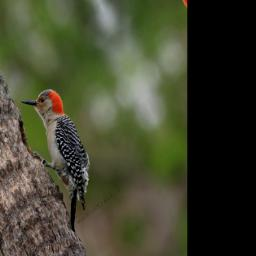Woodpecker: (10, 70, 119, 243)
